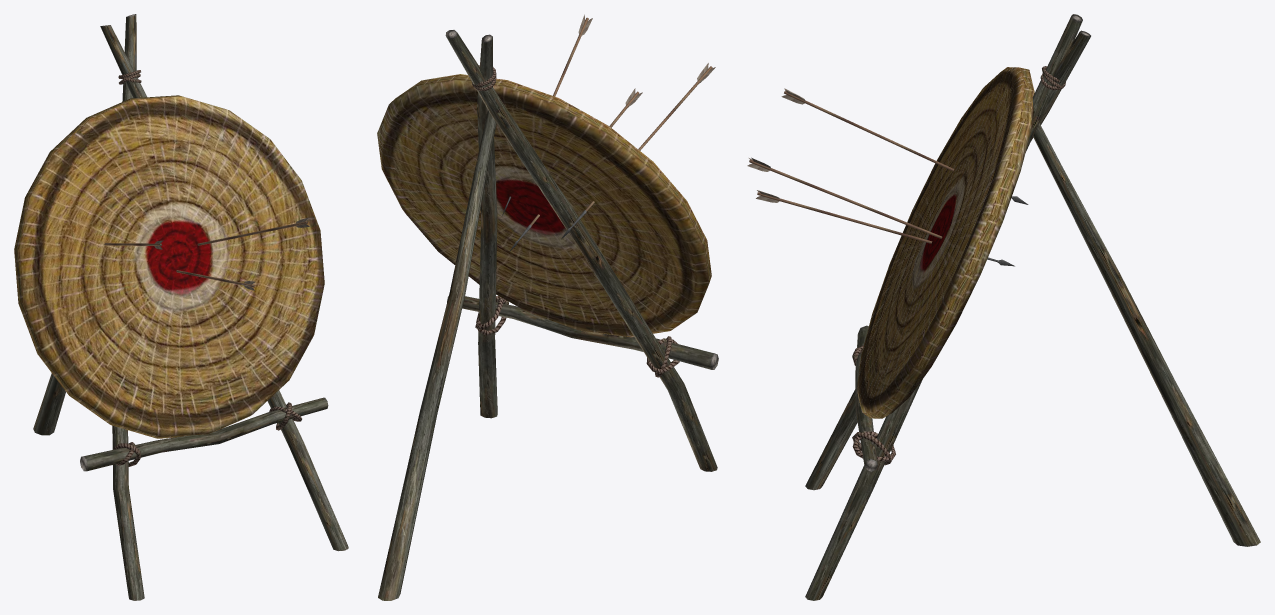
The model's file is target-archery.glb.
3 renders of one model, left to right at view 1: azimuth 30°, elevation 25°; view 2: azimuth 150°, elevation 25°; view 3: azimuth 270°, elevation 25°, orthographic. The views are drawn at different scales.
Parts seen in each view (by area): view 1: TargetArchery_TargetMAT_0, TargetArchery_ArrowsMAT_0; view 2: TargetArchery_TargetMAT_0, TargetArchery_ArrowsMAT_0; view 3: TargetArchery_TargetMAT_0, TargetArchery_ArrowsMAT_0.
Part boxes in pixels (<box>): TargetArchery_TargetMAT_0: <box>14,14,348,600</box>; TargetArchery_ArrowsMAT_0: <box>104,217,309,290</box>; TargetArchery_TargetMAT_0: <box>377,30,718,600</box>; TargetArchery_ArrowsMAT_0: <box>502,14,715,251</box>; TargetArchery_TargetMAT_0: <box>805,14,1260,600</box>; TargetArchery_ArrowsMAT_0: <box>747,88,1028,266</box>.
Bounding box in the file's own units: 122 × 182 × 163.
Materials: 2 (2 with a texture image).
